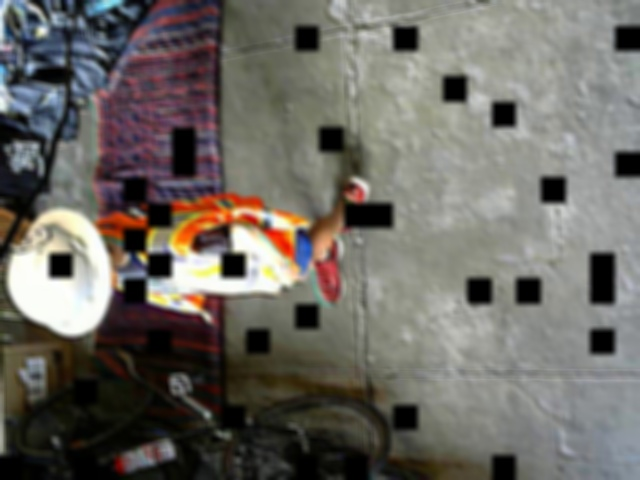three: (13, 227, 49, 255)
